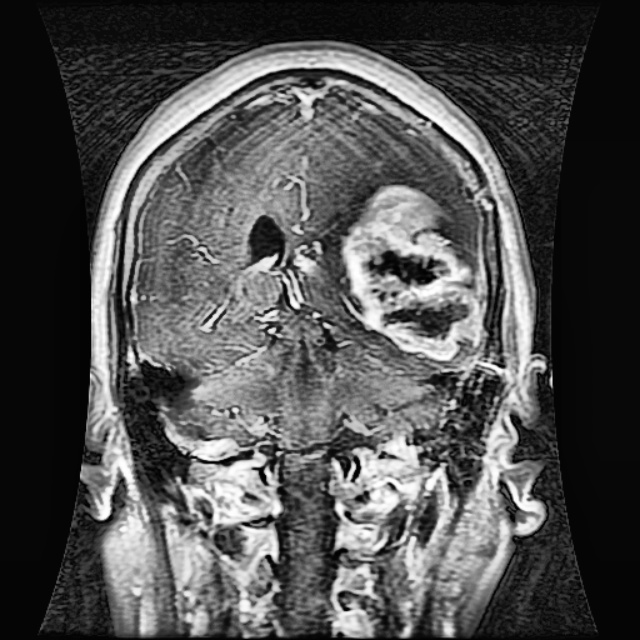Meningioma: (338, 182, 490, 369)
